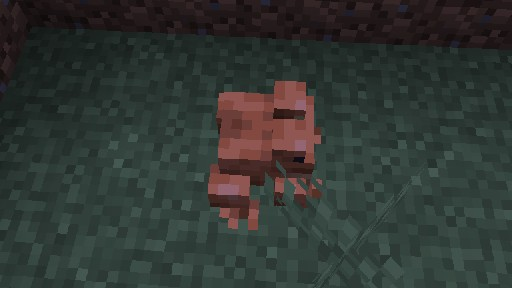frog: (207, 79, 322, 230)
